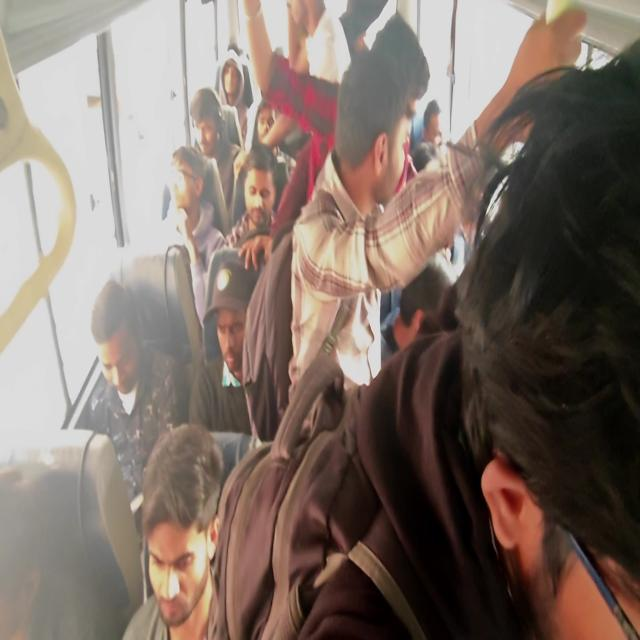person: (88, 2, 608, 637), (288, 3, 588, 401), (454, 38, 640, 638), (74, 278, 190, 508), (122, 421, 227, 638), (188, 249, 259, 435), (170, 144, 227, 328), (189, 86, 244, 225), (381, 264, 451, 354), (224, 142, 278, 249), (215, 49, 252, 145), (421, 99, 443, 146)
